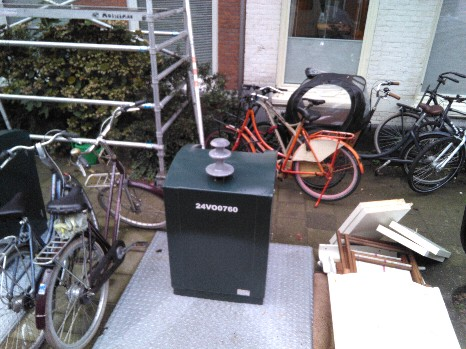Container: (170, 137, 272, 307)
Rest: (318, 222, 437, 349)
Voertuig: (27, 155, 154, 347), (0, 133, 88, 328), (230, 83, 347, 191), (360, 76, 466, 188)
